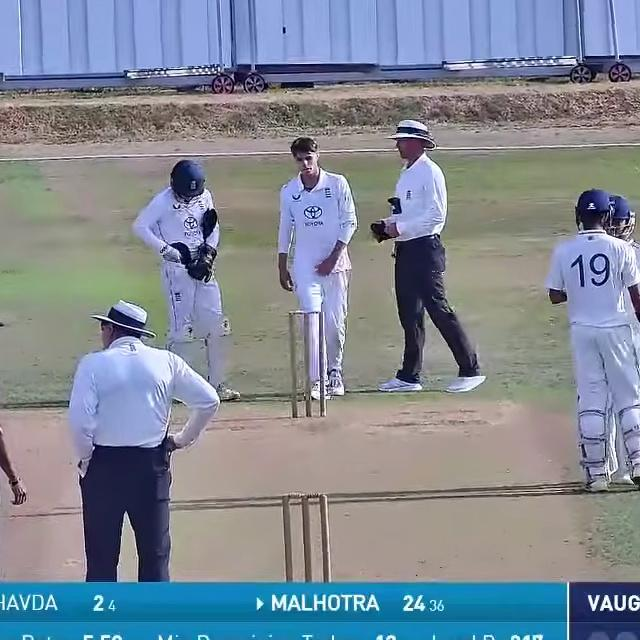umpire: (54, 294, 228, 584)
